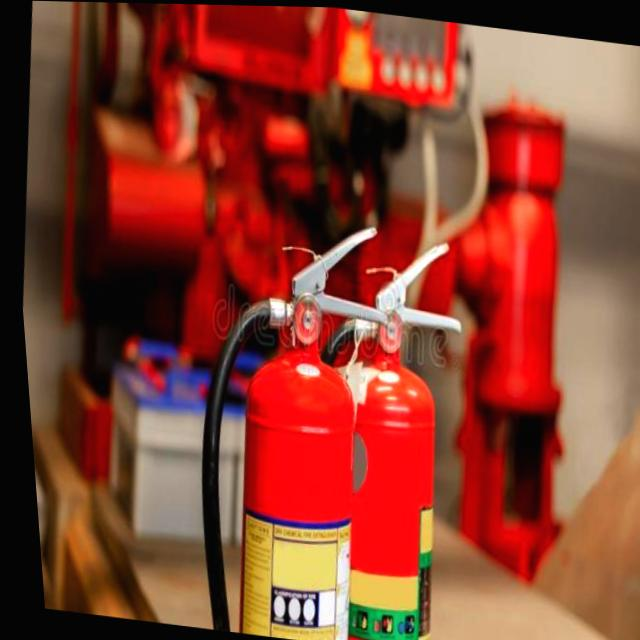FireExtinguisher: (158, 193, 417, 640), (241, 213, 487, 640)
